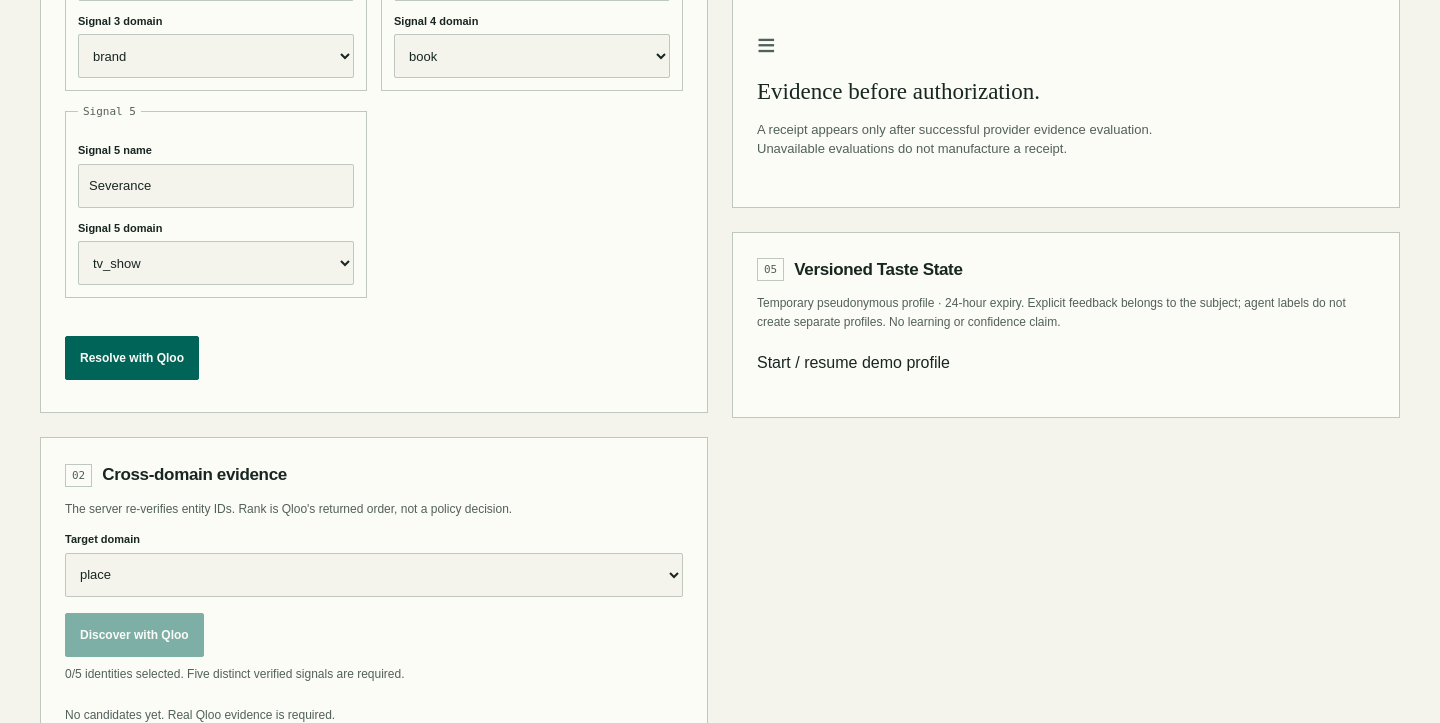
Test: provider-independent presentation › shows intentional unavailable configuration without decision or receipt
(page scrolled)
Click the button "Resolve with Qloo".
click(132, 358)  # box [65,336,199,380]
(page scrolled)
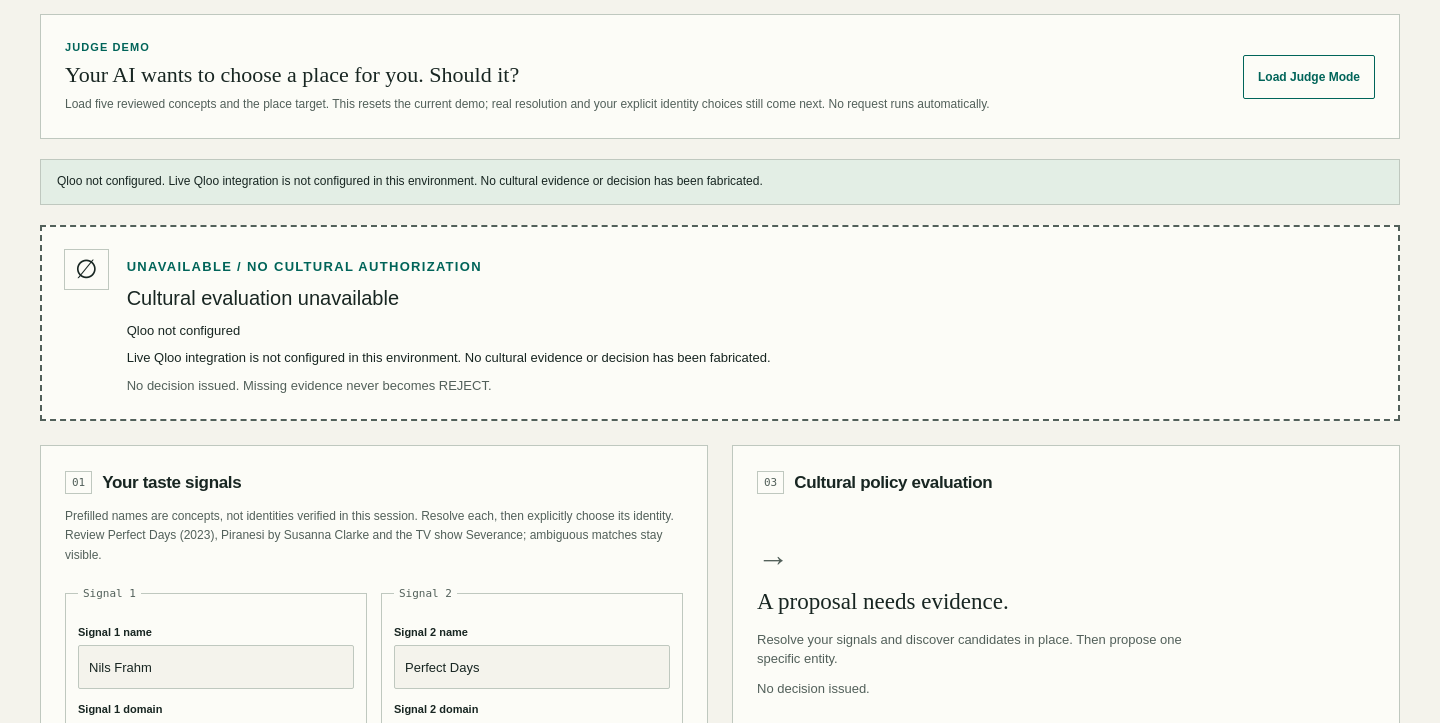
Now the heading "Cultural evaluation unavailable" is shown, box [127,287,399,309]
Now the text "Live Qloo integration is not configured" is shown, box [127,350,771,365]
